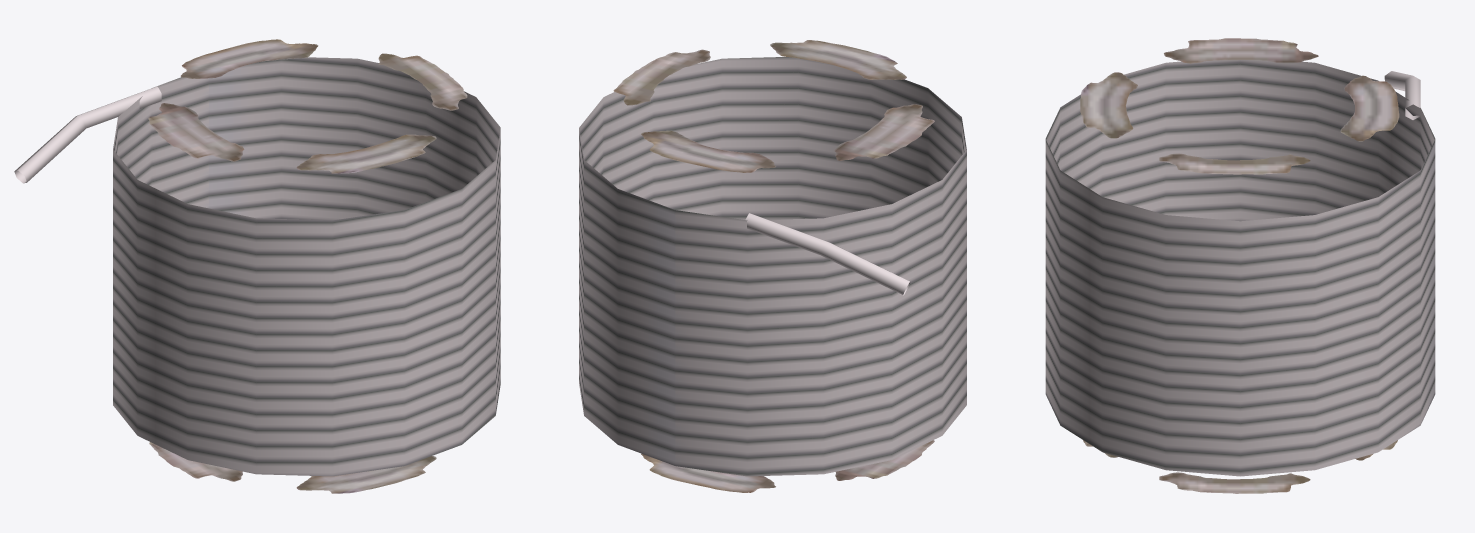
The model's file is eqp_wire_spool_s01_l0.fbx.
The picture shows the model from 3 angles, left to right: view 1: azimuth 30°, elevation 25°; view 2: azimuth 150°, elevation 25°; view 3: azimuth 270°, elevation 25°; orthographic projection.
Parts seen in each view (by area): view 1: mesh_node; view 2: mesh_node; view 3: mesh_node.
Part boxes in pixels (x1,y1,x2,y2): mesh_node: (14,39,500,493); mesh_node: (579,40,966,492); mesh_node: (1045,38,1435,493).
Bounding box in the file's own units: 0.2643 × 0.2 × 0.25.
